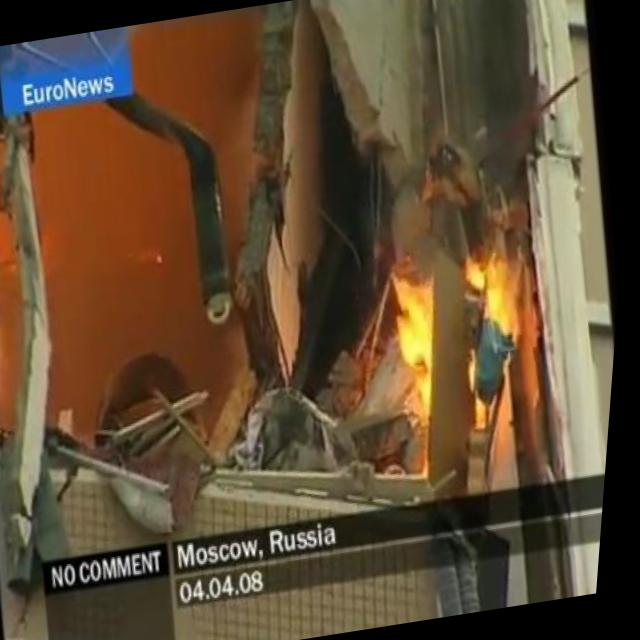fire: (381, 224, 545, 446)
